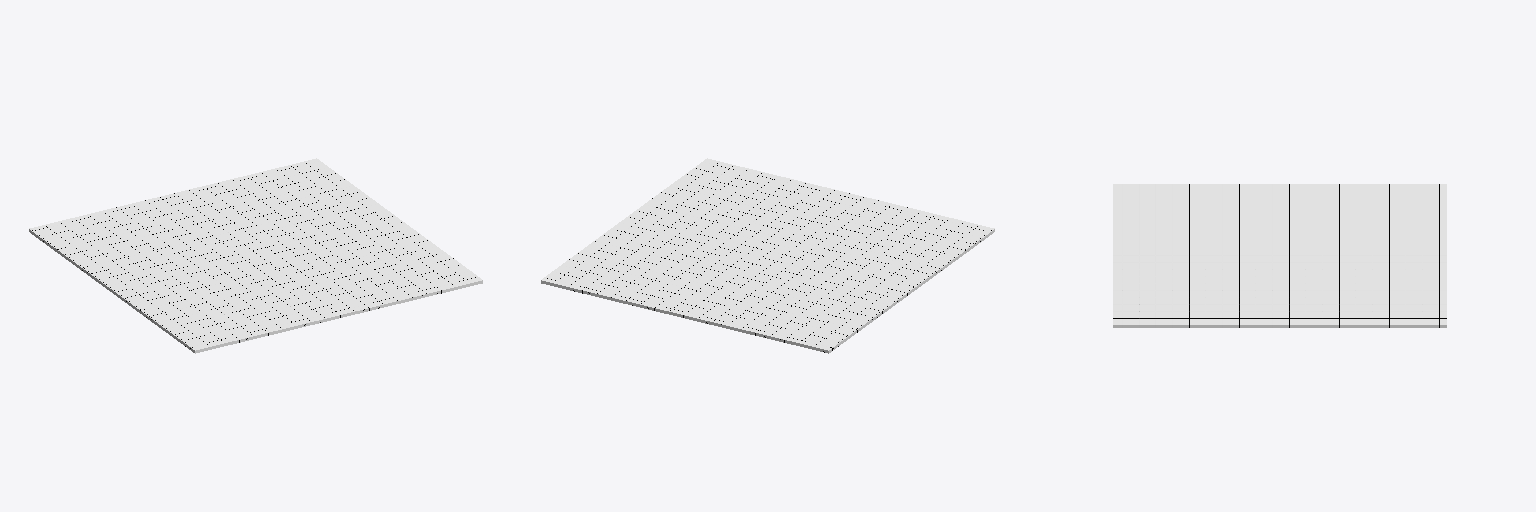
3 views of the same model, side by side, from view 1: azimuth 30°, elevation 25°; view 2: azimuth 150°, elevation 25°; view 3: azimuth 270°, elevation 25° (orthographic).
Parts seen in each view (by area): view 1: Cube; view 2: Cube; view 3: Cube.
Part boxes in pixels (x1,y1,x2,y2): Cube: (29,158,482,353); Cube: (541,158,994,353); Cube: (1113,184,1446,327).
Bounding box in the file's own units: 20 × 0.2 × 20.
Materials: 1 (1 with a texture image).